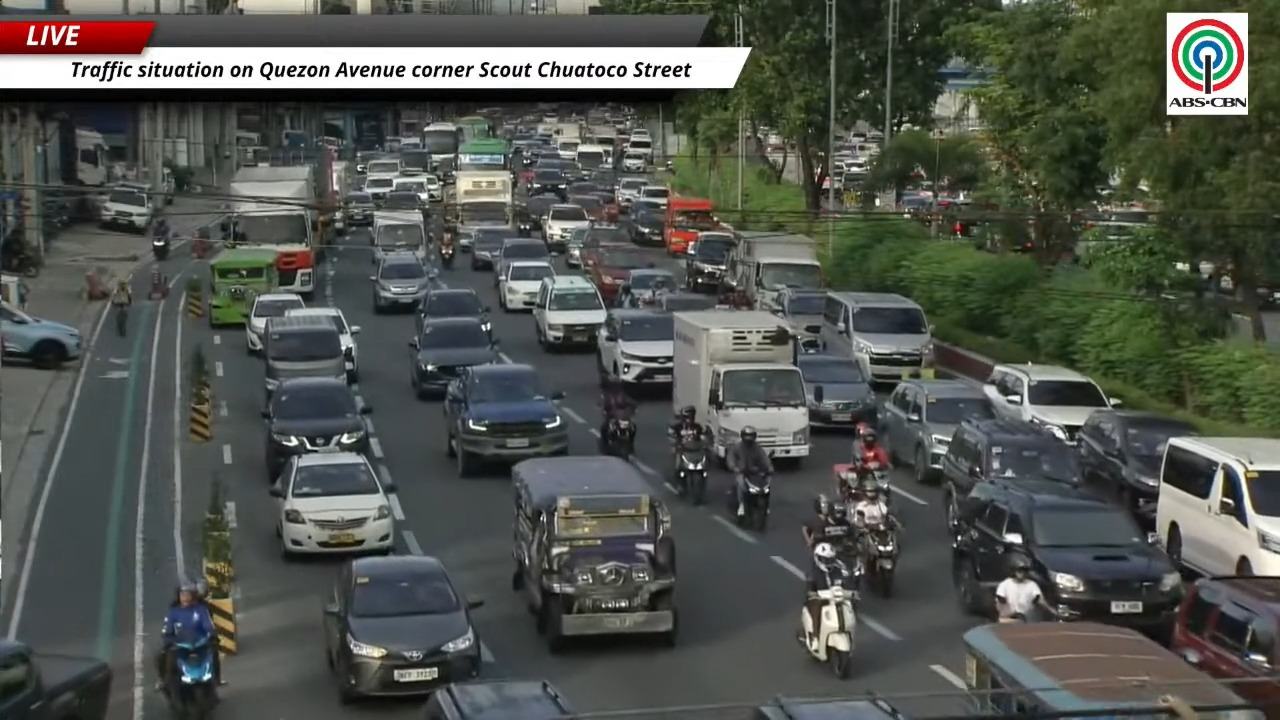bus: (420, 123, 460, 167), (457, 138, 510, 171), (456, 116, 494, 142)
car: (952, 481, 1182, 631), (511, 457, 677, 652), (324, 555, 482, 702), (1155, 437, 1279, 575), (940, 419, 1078, 525), (1169, 576, 1279, 707), (444, 363, 567, 477), (1076, 408, 1199, 519), (270, 451, 395, 559), (879, 379, 993, 482), (262, 378, 371, 480), (983, 363, 1118, 443), (819, 290, 934, 382), (409, 317, 497, 398), (423, 679, 574, 719), (795, 354, 877, 427), (597, 309, 673, 386), (286, 307, 360, 382), (533, 275, 606, 351), (0, 301, 82, 368), (245, 293, 305, 354), (370, 253, 431, 313), (750, 696, 907, 719), (590, 248, 653, 305), (415, 287, 490, 333), (776, 288, 826, 351), (371, 210, 428, 264), (685, 231, 736, 291), (499, 260, 555, 311), (492, 238, 550, 287), (99, 185, 155, 233), (614, 268, 679, 308), (578, 225, 633, 269), (542, 204, 590, 252), (471, 227, 519, 270), (521, 195, 560, 236), (629, 201, 664, 246), (338, 192, 375, 231), (527, 167, 568, 198), (655, 292, 716, 311), (393, 175, 430, 205), (615, 178, 647, 212), (363, 173, 397, 204), (567, 194, 606, 221), (512, 201, 541, 237), (566, 227, 591, 268), (625, 134, 653, 161), (639, 184, 669, 207), (589, 168, 617, 191), (620, 150, 648, 173), (452, 227, 474, 252), (423, 174, 443, 201), (567, 181, 598, 196), (630, 128, 650, 139)
motorcycle: (799, 583, 857, 679), (168, 640, 216, 719), (833, 463, 892, 509), (863, 522, 898, 598), (728, 473, 770, 531), (674, 433, 708, 504), (601, 413, 635, 459), (151, 237, 169, 261), (439, 244, 455, 268)
truck: (673, 309, 809, 463), (224, 165, 320, 296), (0, 640, 111, 719), (726, 231, 824, 311), (446, 170, 513, 229), (587, 125, 617, 150), (554, 121, 581, 139)
